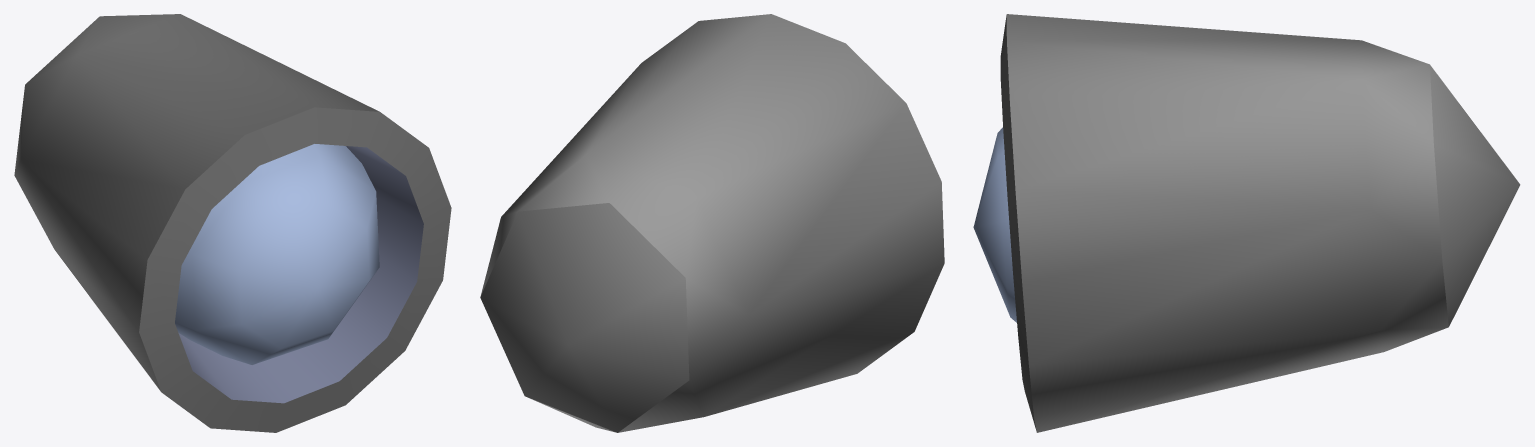
File: DJStageLightBlue_25.glb
The picture shows the model from 3 angles, left to right: view 1: azimuth 30°, elevation 25°; view 2: azimuth 150°, elevation 25°; view 3: azimuth 270°, elevation 25°; orthographic projection. The views are drawn at different scales.
Visible parts, largest first — view 1: DJStageLightBlue; view 2: DJStageLightBlue; view 3: DJStageLightBlue.
Part boxes in pixels (x1,y1,x2,y2): DJStageLightBlue: [14, 14, 451, 432]; DJStageLightBlue: [480, 14, 944, 432]; DJStageLightBlue: [973, 14, 1520, 432].
Bounding box in the file's own units: 0.2405 × 0.2416 × 0.3158.
